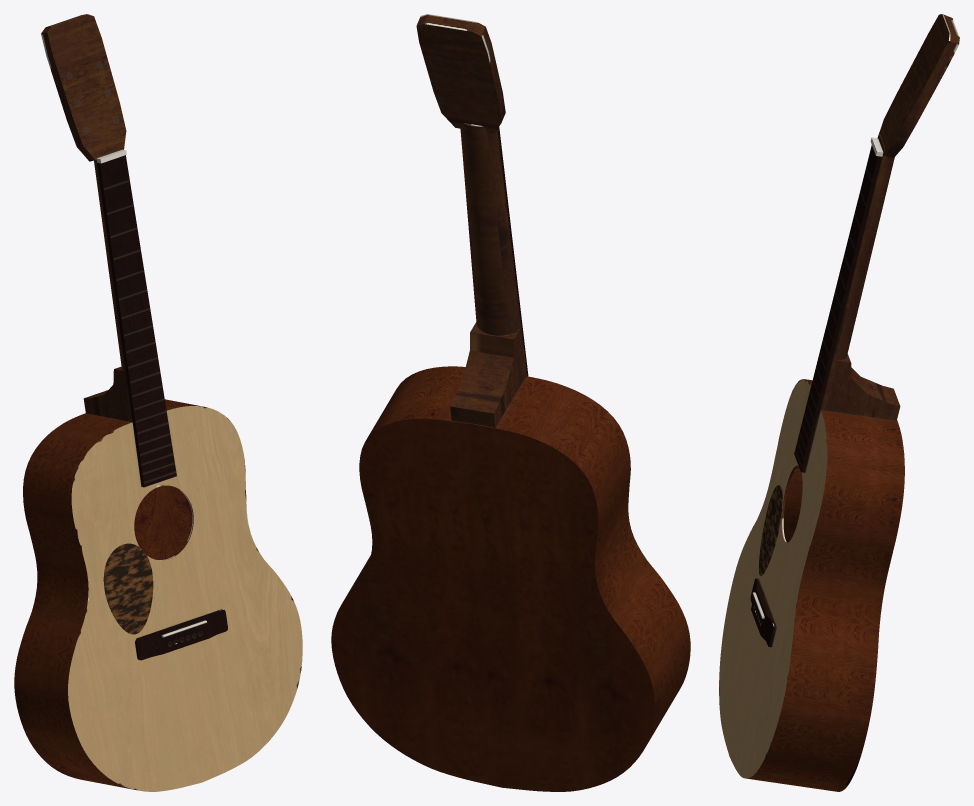
Rendered from same_seed_desk_guitar.glb.
3 views of the same model, side by side, from view 1: azimuth 30°, elevation 25°; view 2: azimuth 150°, elevation 25°; view 3: azimuth 270°, elevation 25° (orthographic). The views are drawn at different scales.
Visible parts, largest first — view 1: guitar_body_low, guitar_fingerboard_low, guitar_neck_low, guitar_pickguard_low, guitar_bridge_low; view 2: guitar_body_low, guitar_neck_low; view 3: guitar_body_low, guitar_neck_low, guitar_fingerboard_low, guitar_pickguard_low, guitar_bridge_low.
Boxes of the visible parts, x1,y1,x2,y2 form: guitar_body_low: (14,399,302,791); guitar_fingerboard_low: (97,155,176,487); guitar_neck_low: (41,14,132,422); guitar_pickguard_low: (103,543,153,634); guitar_bridge_low: (135,609,227,660); guitar_body_low: (331,366,690,791); guitar_neck_low: (416,14,526,427); guitar_body_low: (719,379,904,791); guitar_neck_low: (820,14,959,420); guitar_fingerboard_low: (794,145,882,472); guitar_pickguard_low: (758,485,782,575); guitar_bridge_low: (750,578,776,647).
Bounding box in the file's own units: 0.4096 × 1.04 × 0.3084.
Materials: 6 (6 with a texture image).
